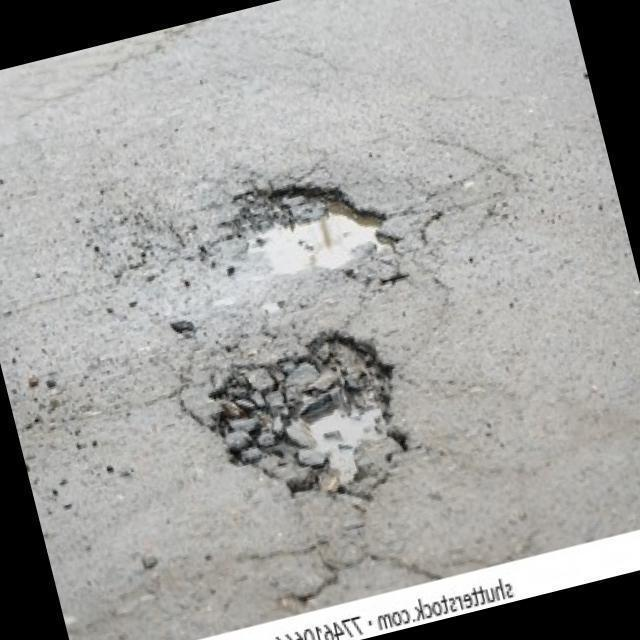pothole: (194, 308, 434, 539), (221, 156, 402, 296)
